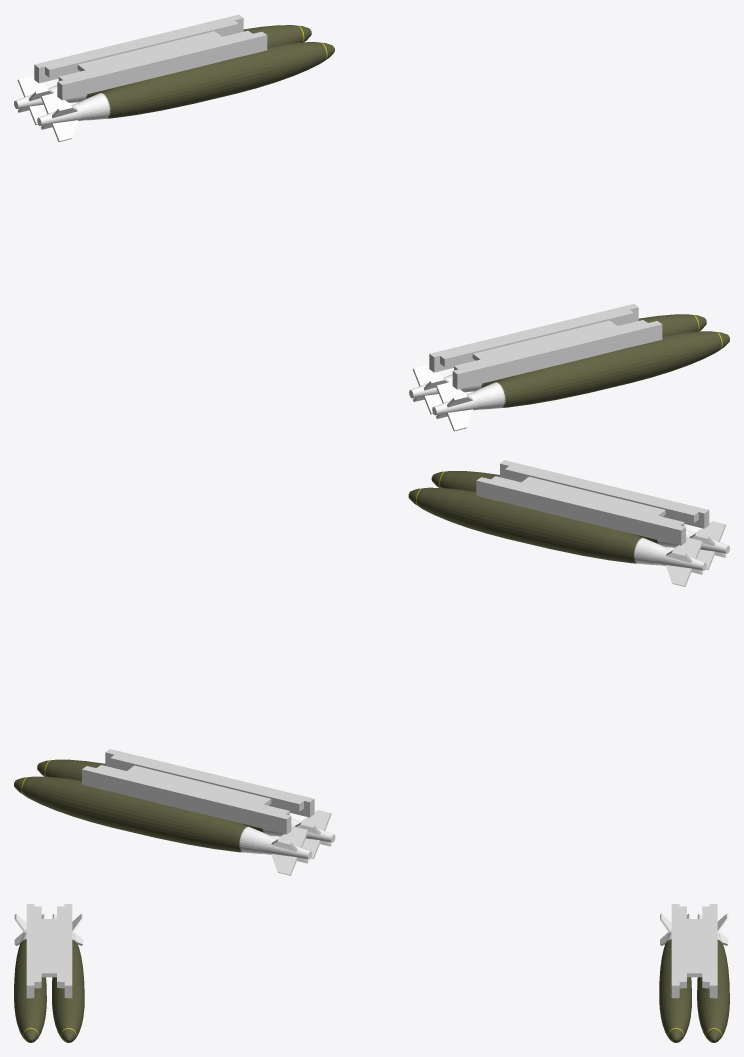
The model's file is gbu32fa18e25.glb.
3 renders of one model, top to bottom at view 1: azimuth 30°, elevation 25°; view 2: azimuth 150°, elevation 25°; view 3: azimuth 270°, elevation 25°, orthographic. The views are drawn at different scales.
Visible parts, largest first — view 1: 球.001, 球.003, 立方体.009, 立方体.010, 球.014, 球.002; view 2: 球.014, 球.002, 立方体.010, 立方体.009, 球.001, 球.003; view 3: 立方体.009, 立方体.010, 球.003, 球.001, 球.014, 球.002.
Part boxes in pixels (x1,y1,x2,y2): 球.001: (37,42,334,141); 球.003: (432,331,729,431); 立方体.009: (34,14,267,100); 立方体.010: (429,303,662,389); 球.014: (14,25,311,125); 球.002: (409,314,706,414); 球.014: (14,776,312,875); 球.002: (408,487,706,586); 立方体.010: (476,460,709,545); 立方体.009: (82,749,314,834); 球.001: (37,759,335,858); 球.003: (431,471,729,569); 立方体.009: (671,904,717,998); 立方体.010: (26,904,72,998); 球.003: (14,913,46,1042); 球.001: (659,913,691,1042); 球.014: (697,913,729,1042); 球.002: (52,913,84,1042).
Bounding box in the file's own units: 3.41 × 0.5614 × 8.74.
Materials: 2 (1 with a texture image).
